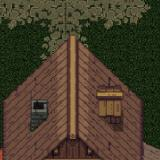Obstacle: (0, 99, 160, 160)
